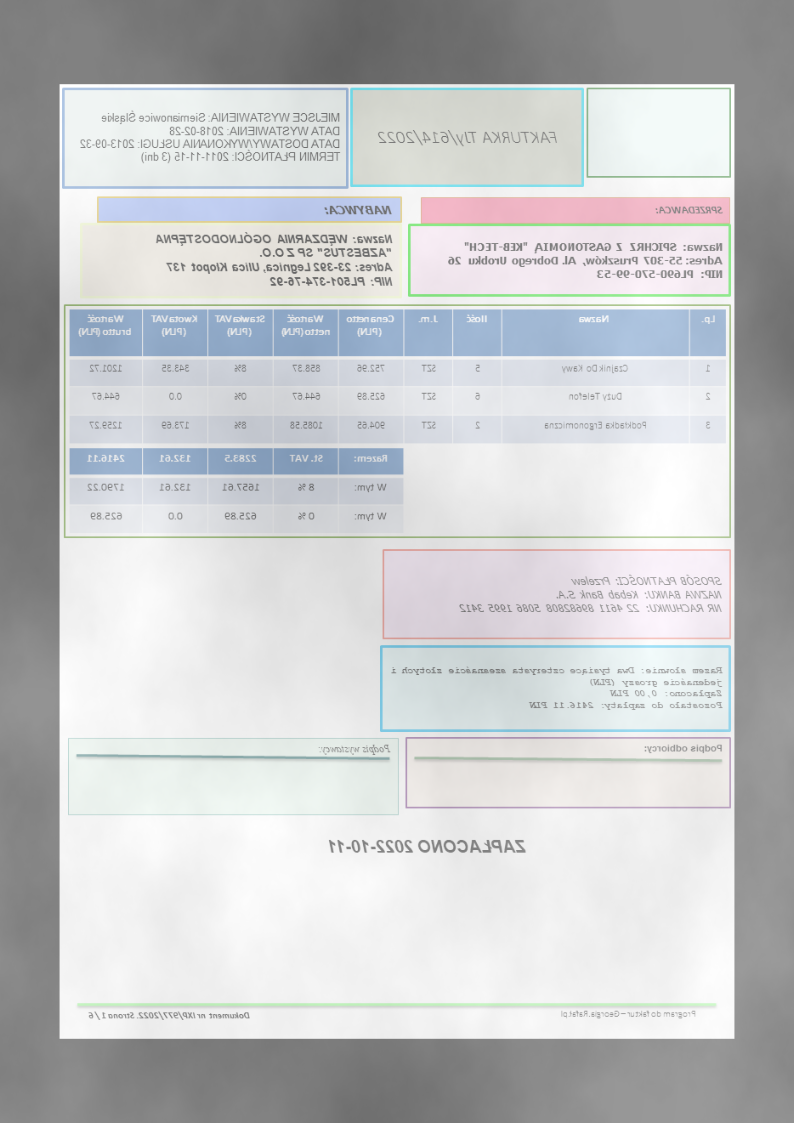Table: (69, 308, 728, 444), (68, 446, 405, 534)
TextBox: (391, 665, 724, 712), (78, 110, 343, 166), (154, 231, 395, 287), (447, 240, 724, 281), (458, 573, 725, 615), (326, 836, 529, 855), (377, 128, 560, 146), (88, 1010, 252, 1022), (559, 1008, 699, 1020), (318, 740, 394, 757), (643, 741, 725, 756), (655, 202, 726, 218), (323, 202, 394, 217)
